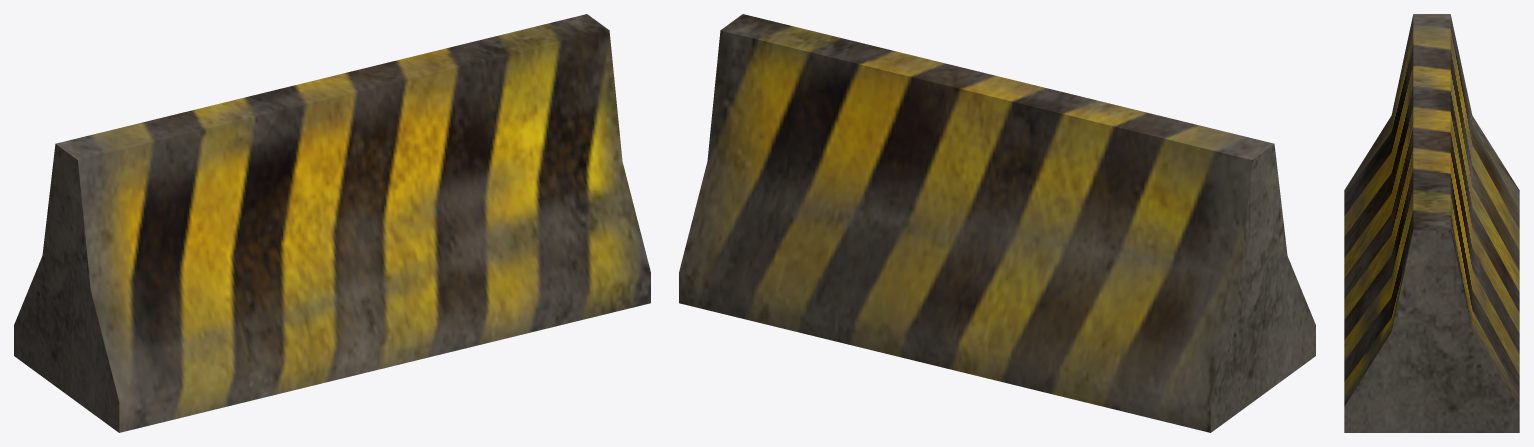
File: barriar_01.FBX
3 views of the same model, side by side, from view 1: azimuth 30°, elevation 25°; view 2: azimuth 150°, elevation 25°; view 3: azimuth 270°, elevation 25° (orthographic). The views are drawn at different scales.
Visible parts, largest first — view 1: barriar_01; view 2: barriar_01; view 3: barriar_01.
Part boxes in pixels (box(x1,y1,x2,y2)): barriar_01: box(14, 14, 650, 432); barriar_01: box(679, 14, 1315, 432); barriar_01: box(1344, 14, 1519, 432).
Size of the model in its own units: 437 by 190 by 149.
